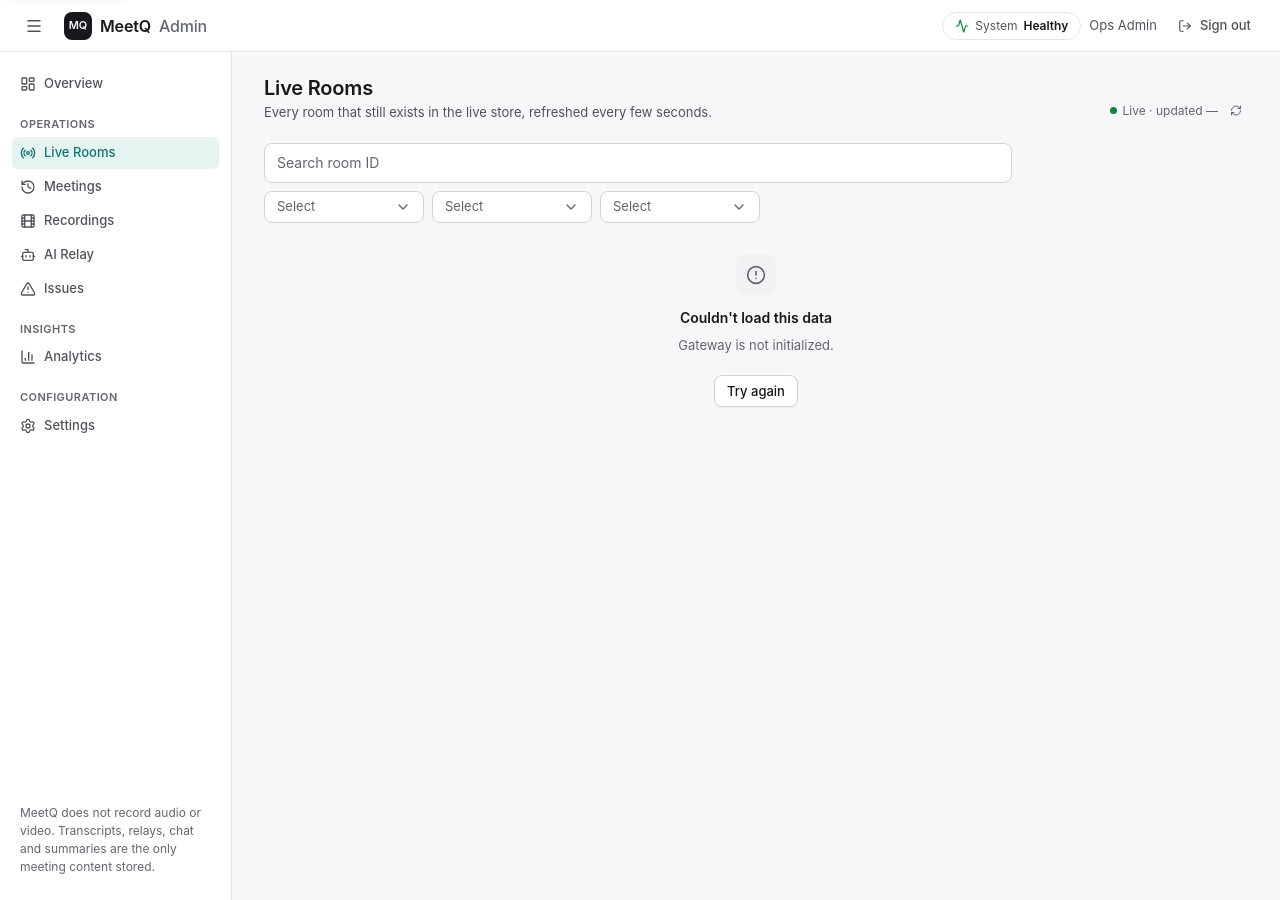
Test: Live Rooms page › shows an error state with retry when the API fails
Expected: the text "Couldn't load this data" is shown, [680,306,832,328]
Expected: the text "Gateway is not initialized." is shown, [678,336,834,355]
Click the button "Try again" at (756, 391), box [714,375,798,407]
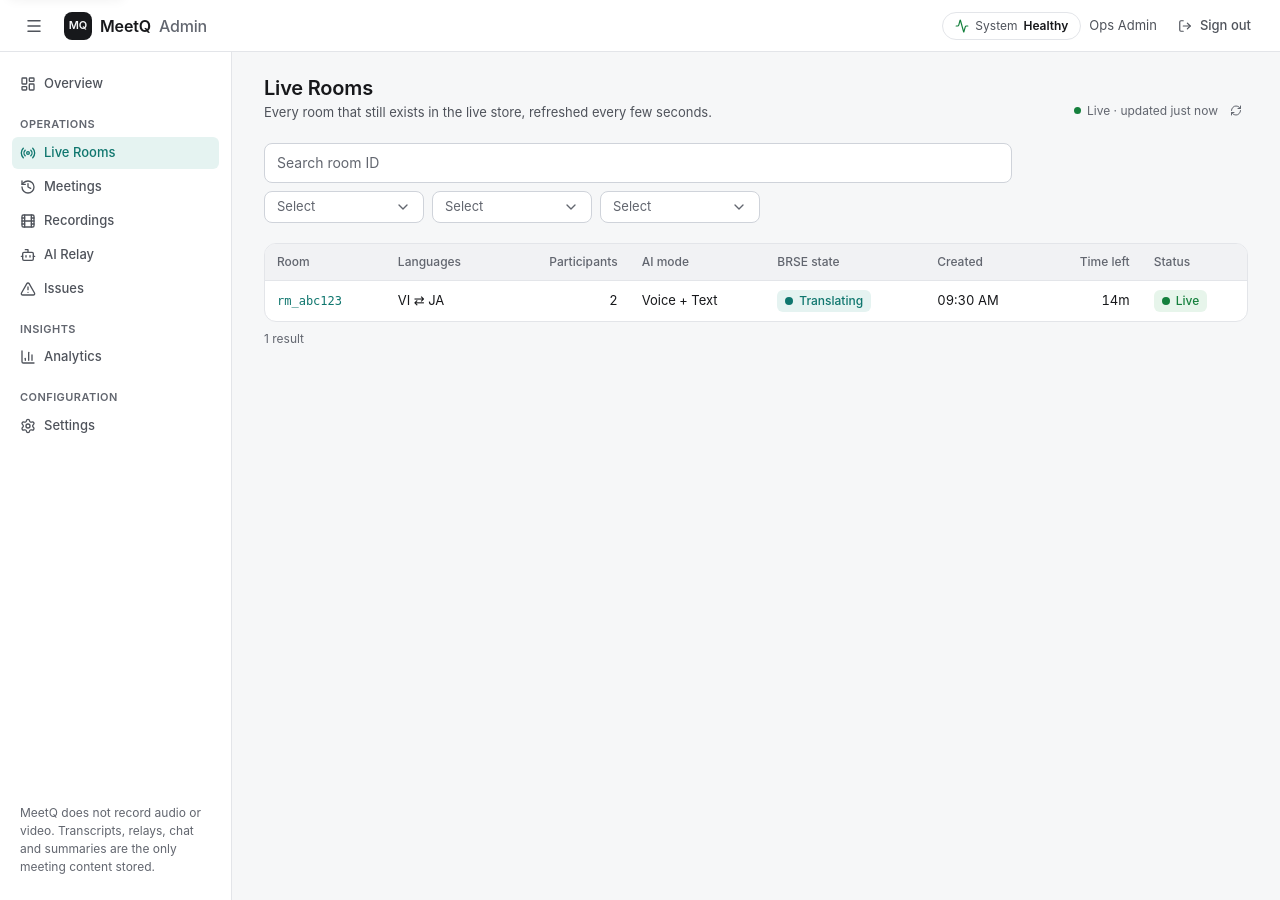
Result: the link "rm_abc123" is shown at [277,294,342,308]
